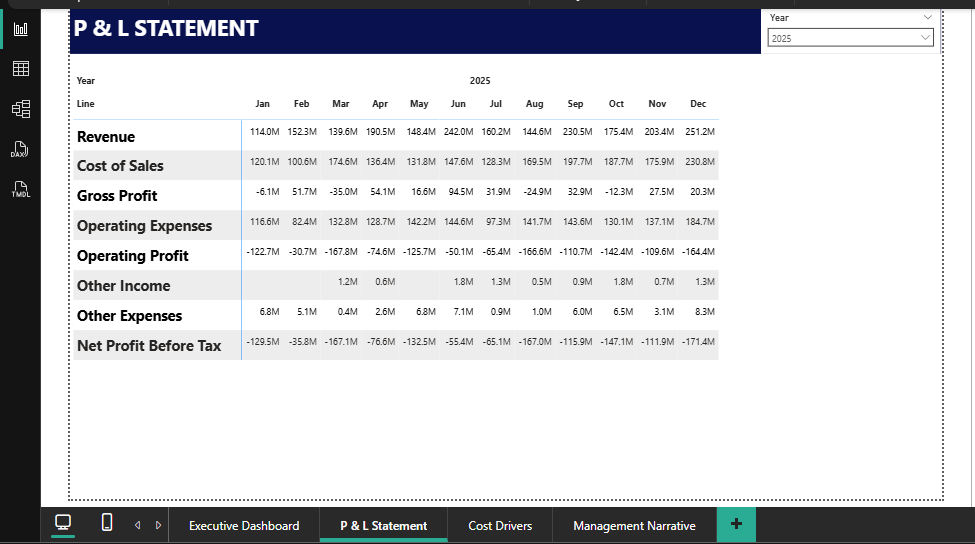

The page's visual inventory and layout, read from the dashboard file:
{"tool":"powerbi","page":{"name":"P & L Statement","canvas":[1280,720],"ordinal":1},"visuals":[{"type":"pivotTable","fields":{"Rows":["PL Layout.Line"],"Columns":["DimDate.Year","DimDate.Month"],"Values":["FactFinancialTransactions.PL Value"]},"box":[0,83.8,1281.3,551],"z":0},{"type":"textbox","box":[0,0,1280,65.7],"z":1000},{"type":"slicer","fields":{"Values":["DimDate.Year"]},"box":[1015.3,0,264.5,66.1],"z":2000}]}

Visuals, with their boxes on the page's 1280x720 design canvas (x1, y1, x2, y2). These are canvas units, not pixel positions in the 975x544 screenshot, which may show the page scaled, cropped or inside an application window:
pivotTable - PL Layout.Line x DimDate.Year: [left=0, top=84, right=1281, bottom=635]
textbox: [left=0, top=0, right=1280, bottom=66]
slicer - DimDate.Year: [left=1015, top=0, right=1280, bottom=66]
